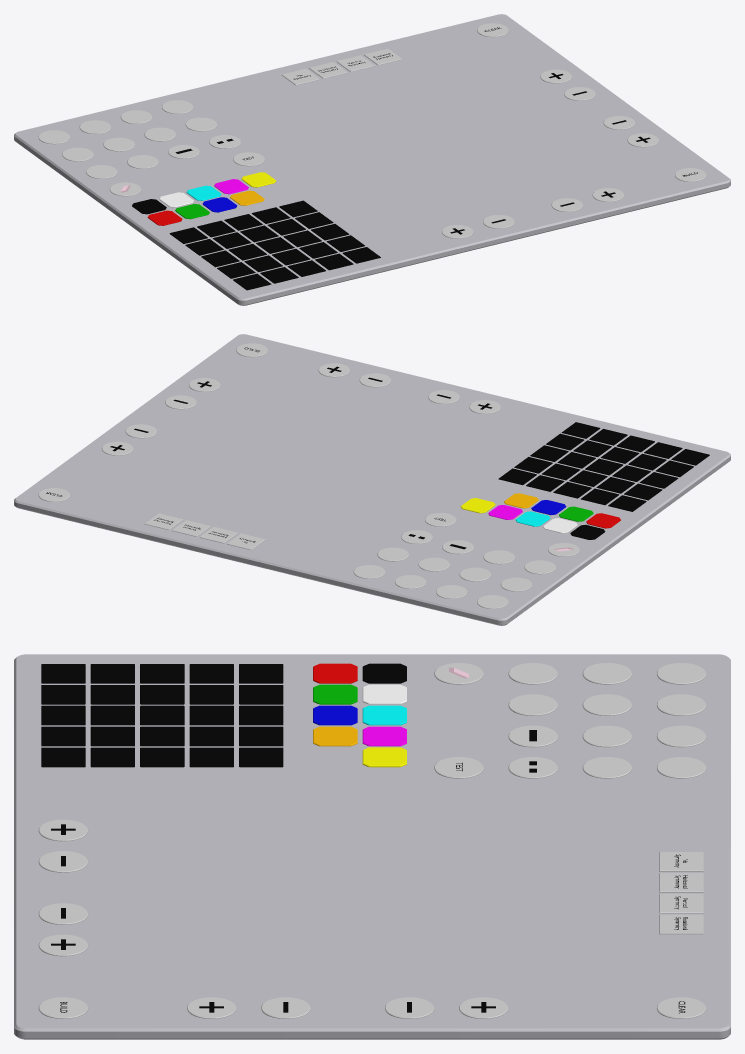
The model's file is EditorBoard.fbx.
3 renders of one model, top to bottom at view 1: azimuth 30°, elevation 25°; view 2: azimuth 150°, elevation 25°; view 3: azimuth 270°, elevation 25°, orthographic. The views are drawn at different scales.
Parts seen in each view (by area): view 1: Board; view 2: Board; view 3: Board, Cell02Button, Cell12Button, Cell22Button, Cell32Button, Cell13Button, Cell33Button, Cell43Button, Cell14Button, Cell34Button, VerticalSymmetryButton, Cell42Button (+51 smaller).
Boxes of the visible parts, left/top/right/bottom form: Board: left=14, top=14, right=730, bottom=305; Board: left=14, top=334, right=730, bottom=625; Board: left=14, top=654, right=730, bottom=1039; Cell02Button: left=41, top=705, right=85, bottom=725; Cell12Button: left=90, top=705, right=134, bottom=725; Cell22Button: left=140, top=705, right=184, bottom=725; Cell32Button: left=189, top=705, right=233, bottom=725; Cell13Button: left=90, top=726, right=134, bottom=746; Cell33Button: left=189, top=726, right=233, bottom=746; Cell43Button: left=239, top=726, right=283, bottom=746; Cell14Button: left=90, top=747, right=134, bottom=767; Cell34Button: left=189, top=747, right=233, bottom=767; VerticalSymmetryButton: left=659, top=893, right=703, bottom=913; Cell42Button: left=239, top=705, right=283, bottom=725.
Size of the model in its own units: 0.72 by 0.0112 by 0.58.
